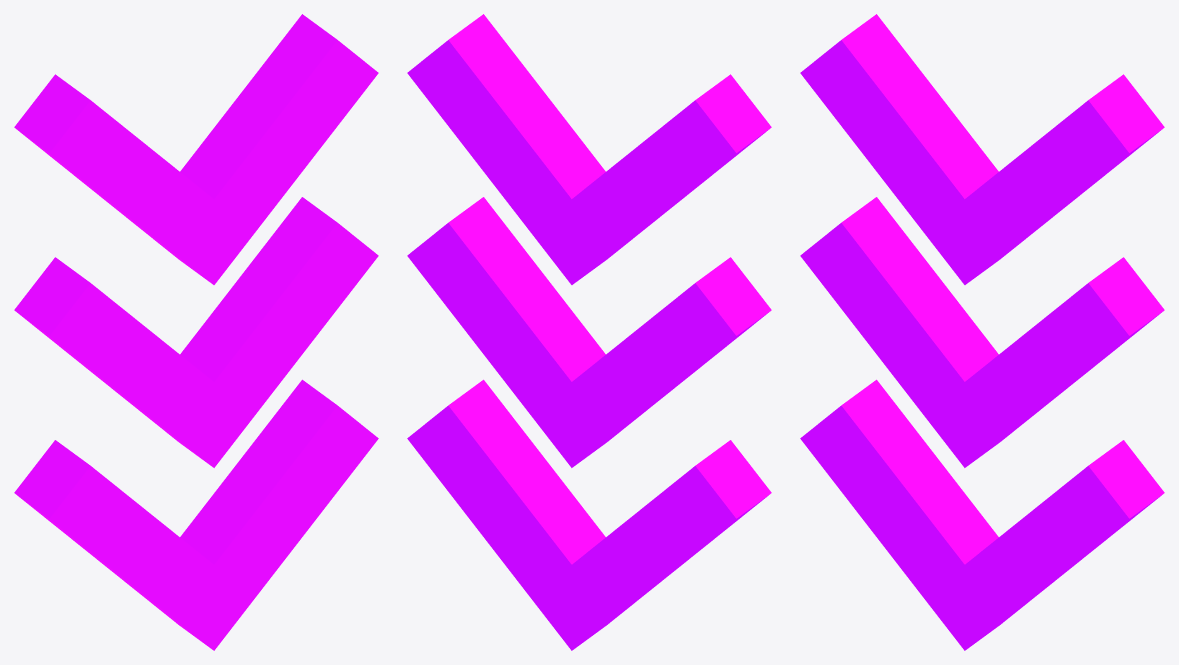
The model's file is indicatorArrow_purple.glb.
The picture shows the model from 3 angles, left to right: view 1: azimuth 30°, elevation 25°; view 2: azimuth 150°, elevation 25°; view 3: azimuth 330°, elevation 25°; orthographic projection.
Visible parts, largest first — view 1: Plane; view 2: Plane; view 3: Plane.
Part boxes in pixels (<box>): Plane: <box>14,14,378,650</box>; Plane: <box>407,14,771,650</box>; Plane: <box>800,14,1164,650</box>.
Bounding box in the file's own units: 0.3394 × 0.5721 × 0.0632.
